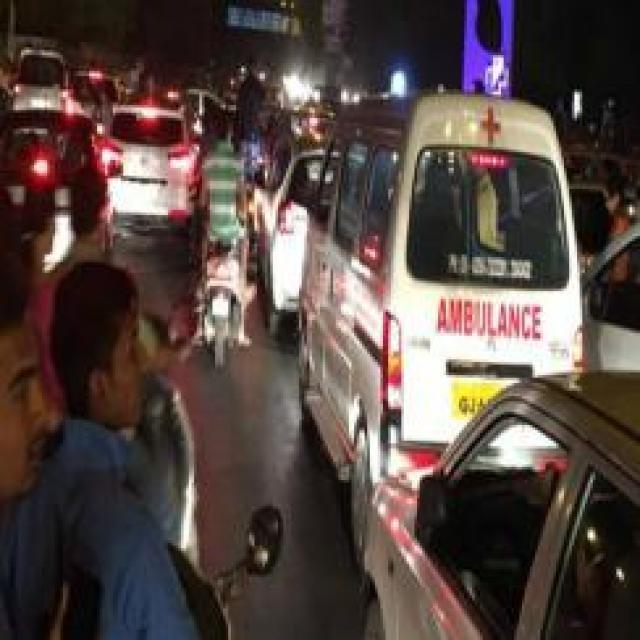Ambulance: (0, 28, 637, 637), (292, 84, 588, 577), (0, 257, 223, 637), (360, 368, 638, 638), (234, 68, 344, 341)
